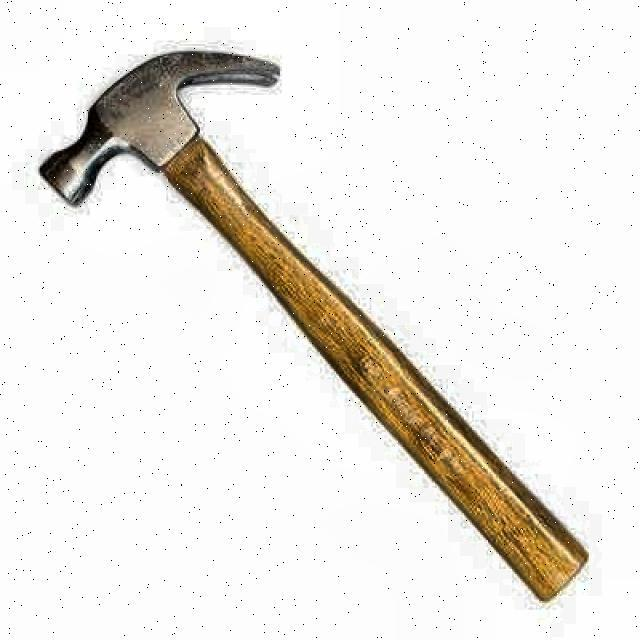hammer: (34, 48, 590, 602)
